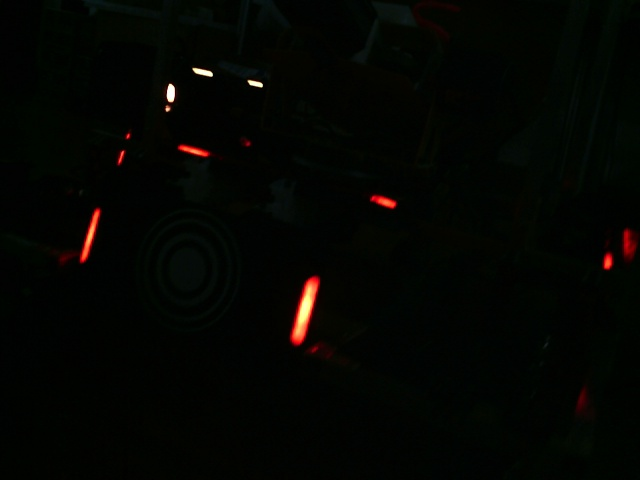lamp: (285, 273, 323, 349), (78, 207, 102, 265)
